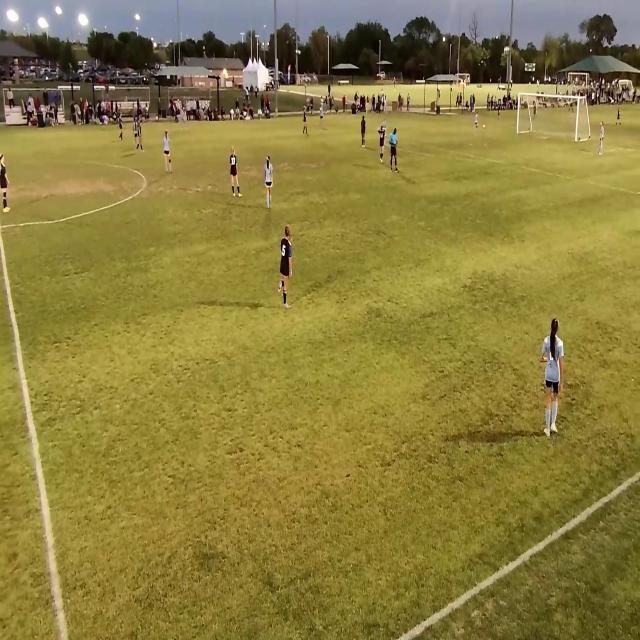ball: (482, 124, 486, 130)
team1: (541, 318, 568, 438), (277, 228, 295, 311), (230, 145, 242, 196), (1, 157, 10, 215), (378, 126, 386, 164), (360, 113, 368, 149), (303, 105, 310, 140), (137, 116, 142, 152), (118, 112, 124, 139)
team2: (264, 155, 276, 209), (164, 129, 172, 175), (597, 120, 605, 159), (132, 117, 138, 148), (319, 104, 325, 129), (474, 110, 480, 132), (382, 119, 388, 128)
